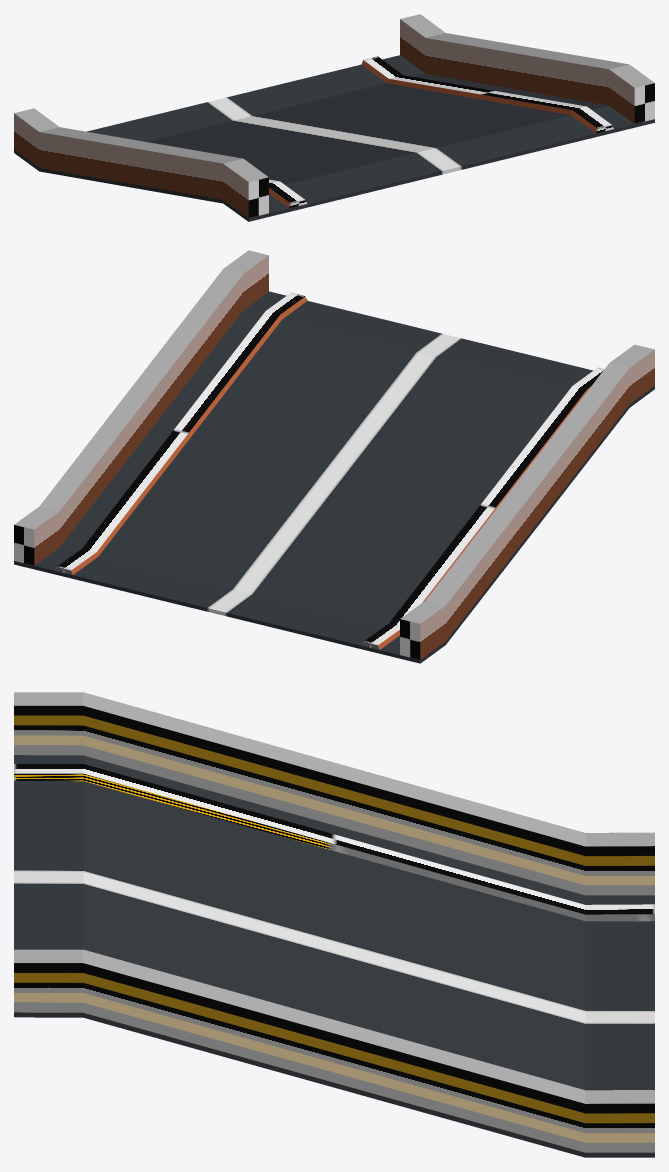
Rendered from kartkids_base_trk_230_rmp_transition_flat_to_up_1x1_z2p5.gltf.
The picture shows the model from 3 angles, top to bottom: view 1: azimuth 30°, elevation 25°; view 2: azimuth 150°, elevation 25°; view 3: azimuth 270°, elevation 25°; orthographic projection. The views are drawn at different scales.
Parts seen in each view (by area): view 1: kartkids_base_trk_230_rmp_transition_flat_to_up_1x1_z2p5, kartkids_base_trk_230_rmp_transition_flat_to_up_1x1_z2p5.001; view 2: kartkids_base_trk_230_rmp_transition_flat_to_up_1x1_z2p5, kartkids_base_trk_230_rmp_transition_flat_to_up_1x1_z2p5.001; view 3: kartkids_base_trk_230_rmp_transition_flat_to_up_1x1_z2p5, kartkids_base_trk_230_rmp_transition_flat_to_up_1x1_z2p5.001.
Boxes of the visible parts, x1=… form: kartkids_base_trk_230_rmp_transition_flat_to_up_1x1_z2p5: x1=14, y1=55, x2=654, y2=221; kartkids_base_trk_230_rmp_transition_flat_to_up_1x1_z2p5.001: x1=14, y1=14, x2=654, y2=218; kartkids_base_trk_230_rmp_transition_flat_to_up_1x1_z2p5: x1=14, y1=291, x2=654, y2=663; kartkids_base_trk_230_rmp_transition_flat_to_up_1x1_z2p5.001: x1=14, y1=250, x2=654, y2=659; kartkids_base_trk_230_rmp_transition_flat_to_up_1x1_z2p5: x1=14, y1=755, x2=654, y2=1157; kartkids_base_trk_230_rmp_transition_flat_to_up_1x1_z2p5.001: x1=14, y1=692, x2=654, y2=1152.
Size of the model in its own units: 10 by 3.35 by 10.
Materials: 2 (2 with a texture image).
